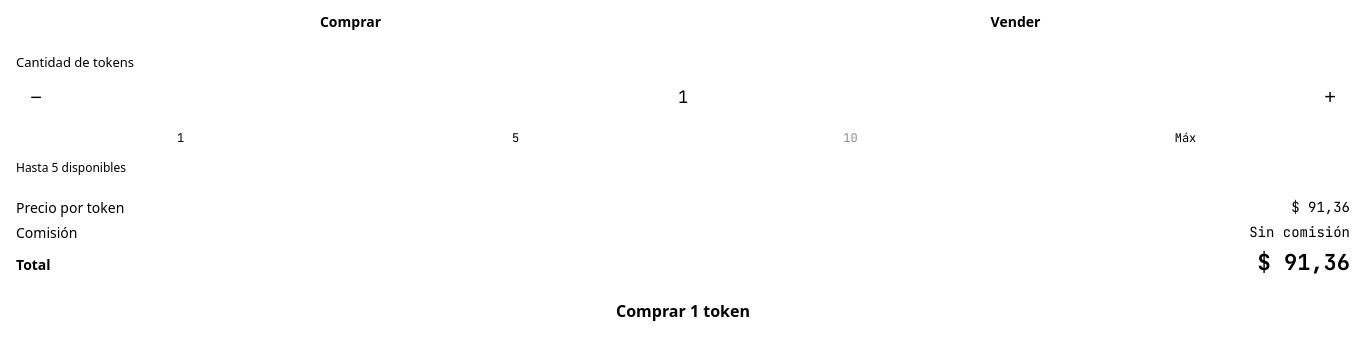
Scenario: TradePanel › escribir una cantidad en el input recalcula el total, acotado al máximo
Replace the text in the number field with "3": {"x": 683, "y": 97} [64,77,1302,117]
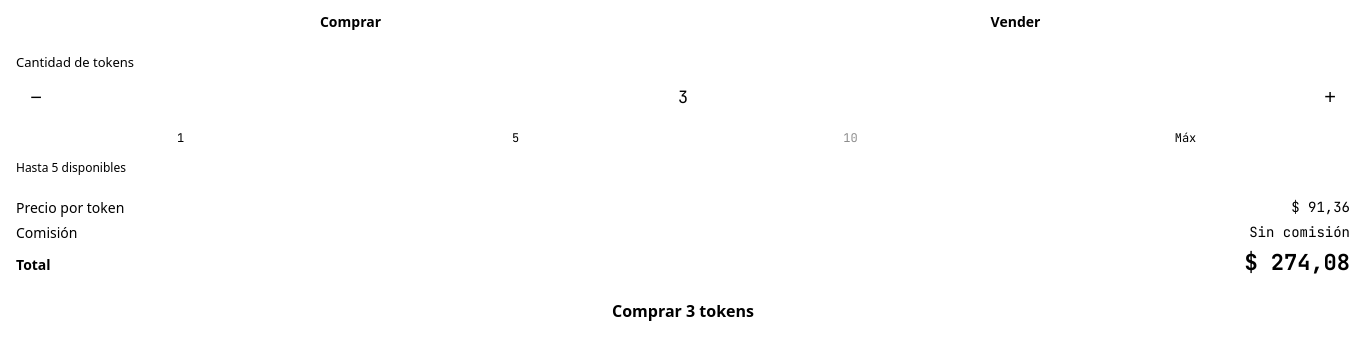
Result: the text "$ 274,08" is shown at [1244,248,1350,277]
Replace the text in the number field with "999": {"x": 683, "y": 97} [64,77,1302,117]
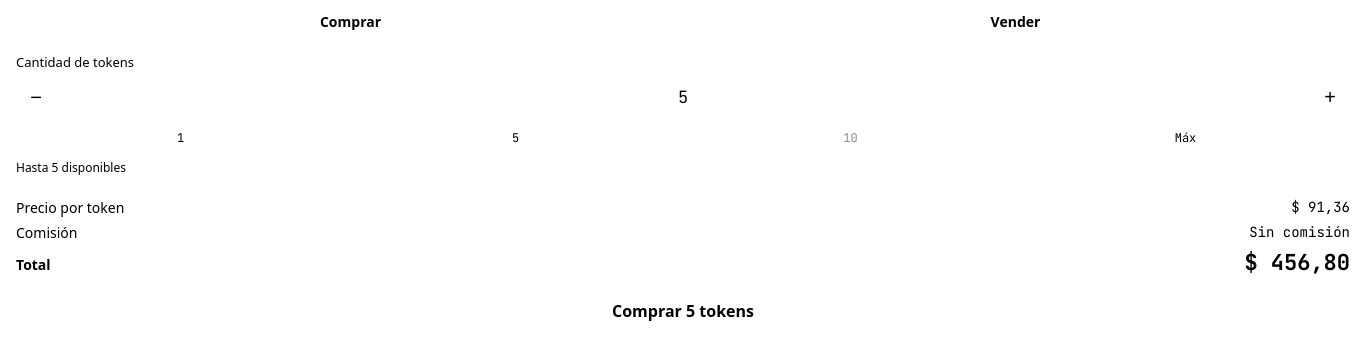
Result: the number field holds "5" at [64,77,1302,117]
